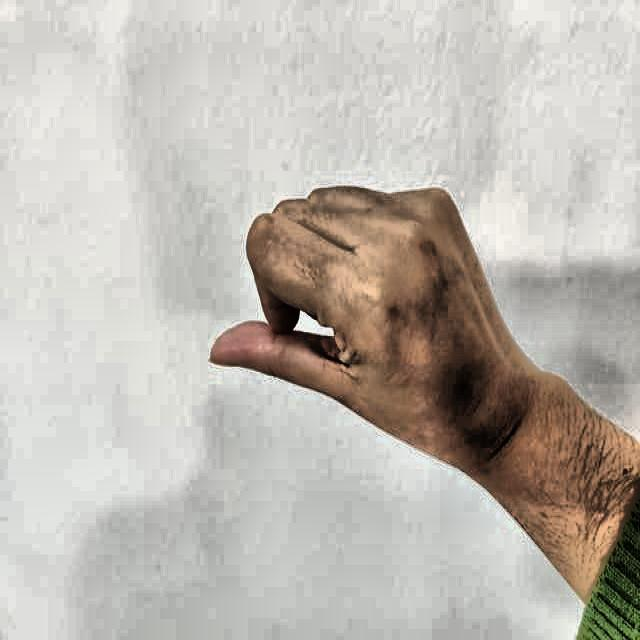Ay: (190, 135, 495, 537)
